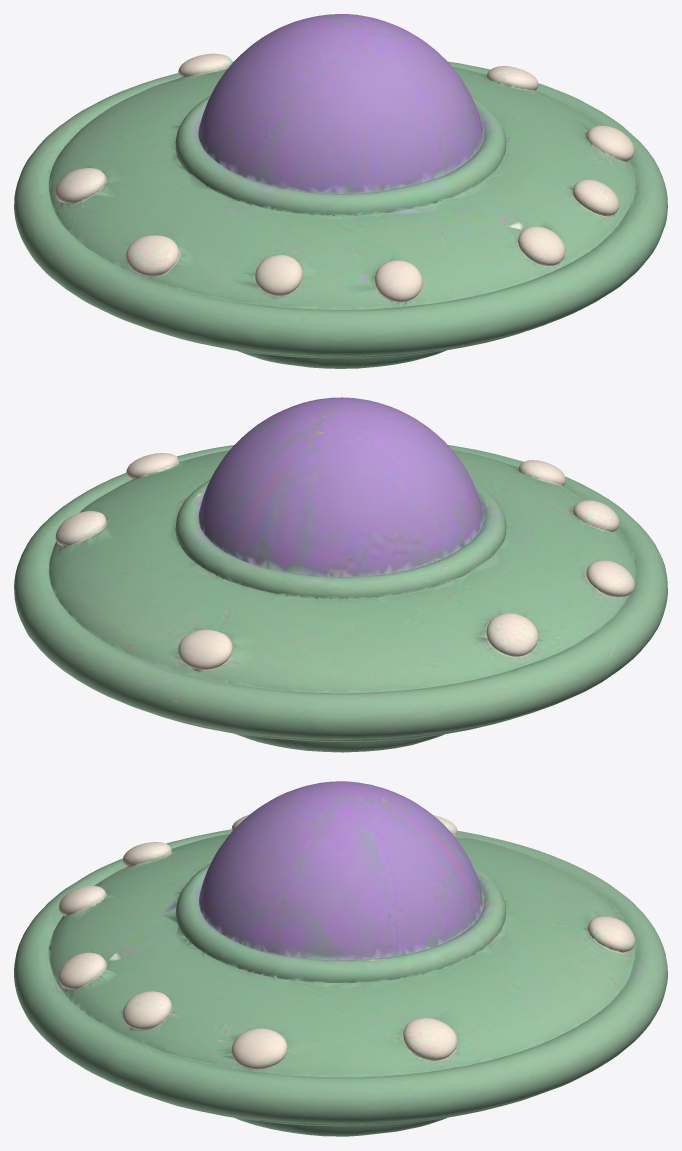
3 views of the same model, one above another, from view 1: azimuth 30°, elevation 25°; view 2: azimuth 150°, elevation 25°; view 3: azimuth 270°, elevation 25° (orthographic).
Bounding box in the file's own units: 1.9 × 0.9022 × 1.9.
1 material, 1 textured.
